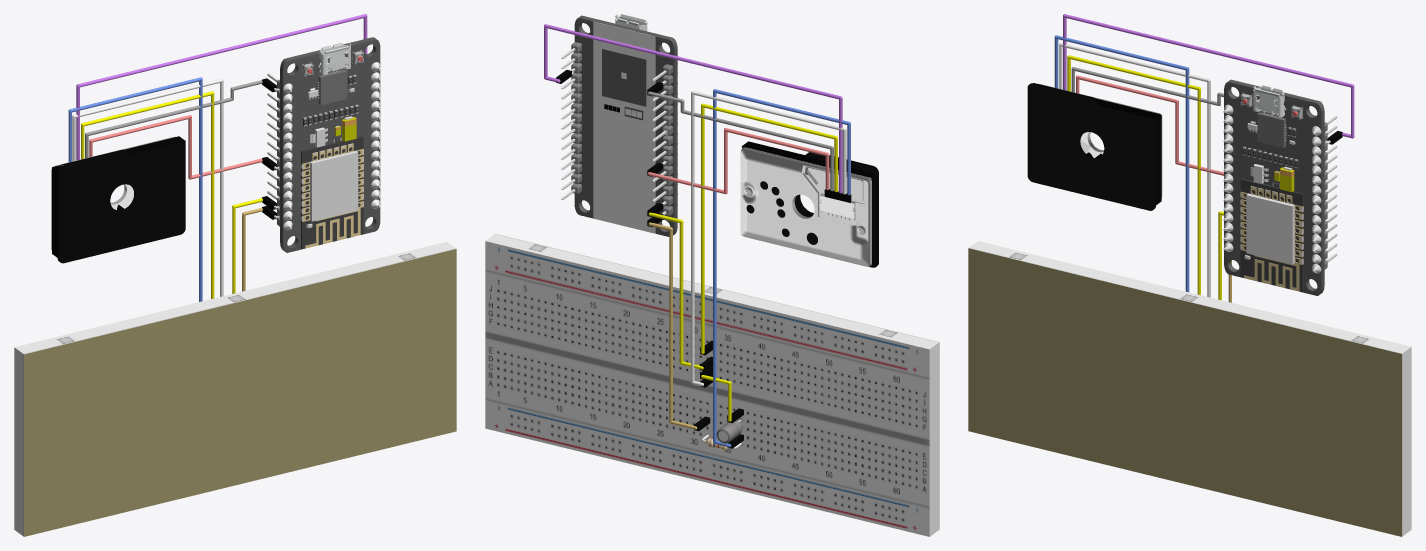
Rendered from exp18.glb.
3 views of the same model, side by side, from view 1: azimuth 30°, elevation 25°; view 2: azimuth 150°, elevation 25°; view 3: azimuth 330°, elevation 25° (orthographic). The views are drawn at different scales.
Parts seen in each view (by area): view 1: LP, DustSensor, pcb_board_Cube, pins_Cube_024, wifisheild_Cube_055, esp12ebase_Cube_054, Cylinder__2_, esp12e_solder_Cube_060, cp2102_Cube_022, Cylinder__2__5, Cylinder__2__1, micro_usb_connector (+6 smaller); view 2: LP, DustSensor, Cube, pcb_board_Cube, pins_Cube_024, Cube__1_, Cylinder__2__5, Cylinder__2_, Cylinder__2__1, Cylinder__2__4, Cylinder__1__7, Cylinder__4_ (+4 smaller); view 3: LP, DustSensor, pcb_board_Cube, pins_Cube_024, wifisheild_Cube_055, esp12ebase_Cube_054, Cylinder__2_, Cylinder__2__5, esp12e_solder_Cube_060, cp2102_Cube_022, Cylinder__2__1, micro_usb_connector (+6 smaller).
Part boxes in pixels (x1,y1,x2,y2): LP: [14, 241, 456, 536]; DustSensor: [51, 136, 185, 263]; pcb_board_Cube: [280, 37, 380, 252]; pins_Cube_024: [267, 62, 380, 230]; wifisheild_Cube_055: [309, 150, 358, 221]; esp12ebase_Cube_054: [301, 136, 363, 249]; Cylinder__2_: [78, 14, 365, 87]; esp12e_solder_Cube_060: [301, 143, 363, 221]; cp2102_Cube_022: [318, 69, 347, 105]; Cylinder__2__5: [199, 79, 202, 301]; Cylinder__2__1: [220, 81, 223, 296]; micro_usb_connector: [318, 43, 350, 74]; LP: [485, 233, 939, 536]; DustSensor: [740, 141, 878, 267]; Cube: [593, 21, 655, 233]; pcb_board_Cube: [574, 15, 677, 236]; pins_Cube_024: [561, 42, 677, 216]; Cube__1_: [602, 49, 646, 106]; Cylinder__2__5: [713, 91, 716, 442]; Cylinder__2_: [545, 24, 840, 99]; Cylinder__2__1: [691, 93, 694, 382]; Cylinder__2__4: [701, 106, 704, 352]; Cylinder__1__7: [669, 230, 672, 422]; Cylinder__4_: [679, 222, 683, 363]; LP: [968, 241, 1411, 536]; DustSensor: [1027, 83, 1162, 210]; pcb_board_Cube: [1224, 79, 1324, 295]; pins_Cube_024: [1223, 104, 1337, 273]; wifisheild_Cube_055: [1246, 193, 1294, 264]; esp12ebase_Cube_054: [1240, 179, 1303, 292]; Cylinder__2_: [1064, 14, 1351, 87]; Cylinder__2__5: [1185, 69, 1189, 292]; esp12e_solder_Cube_060: [1240, 186, 1303, 264]; cp2102_Cube_022: [1257, 112, 1286, 147]; Cylinder__2__1: [1207, 81, 1210, 297]; micro_usb_connector: [1253, 85, 1286, 117].
Bounding box in the file's own units: 3.46 × 3.21 × 0.4873.
160 materials, 2 textured.
